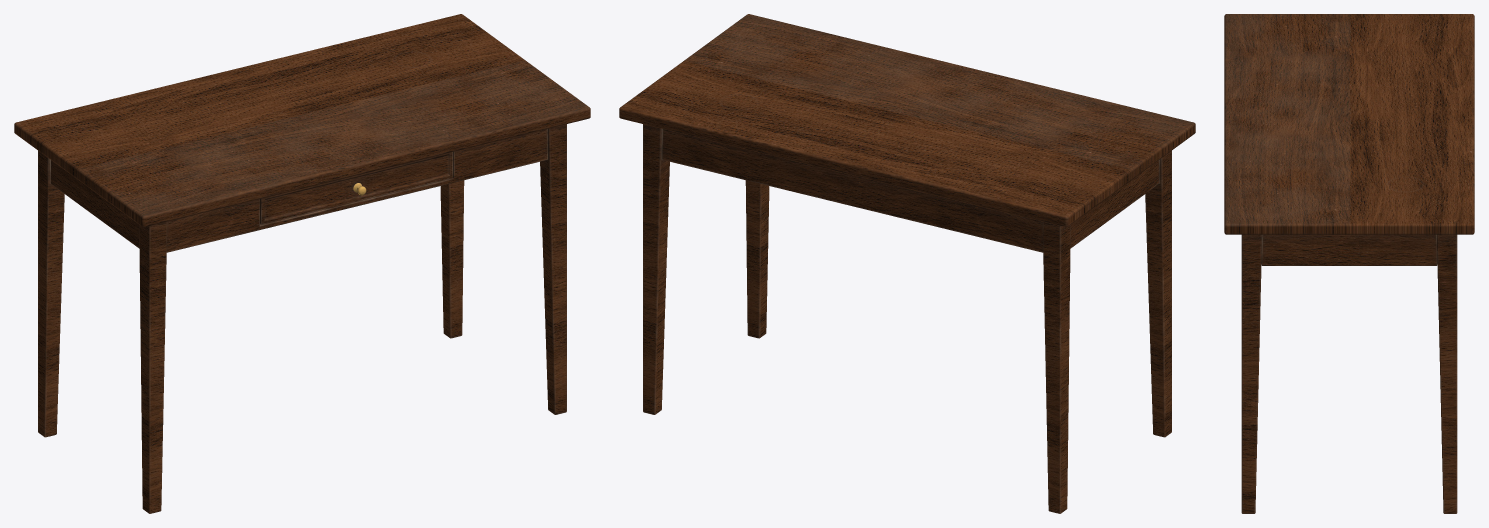
The model's file is corner_desk.glb.
3 renders of one model, left to right at view 1: azimuth 30°, elevation 25°; view 2: azimuth 150°, elevation 25°; view 3: azimuth 270°, elevation 25°, orthographic. The views are drawn at different scales.
Parts seen in each view (by area): view 1: Desk; view 2: Desk; view 3: Desk.
Boxes of the visible parts, bbox=[...] form: Desk: bbox=[14, 14, 590, 513]; Desk: bbox=[619, 14, 1195, 513]; Desk: bbox=[1224, 14, 1474, 513].
Bounding box in the file's own units: 1.16 × 0.76 × 0.58.
1 material, 1 textured.
